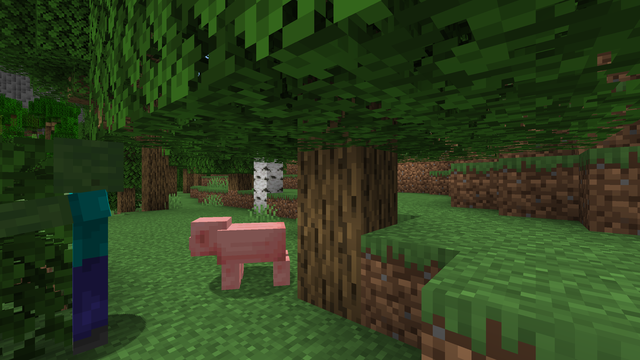cochons: (213, 218, 293, 297)
zombies: (44, 141, 133, 358)
